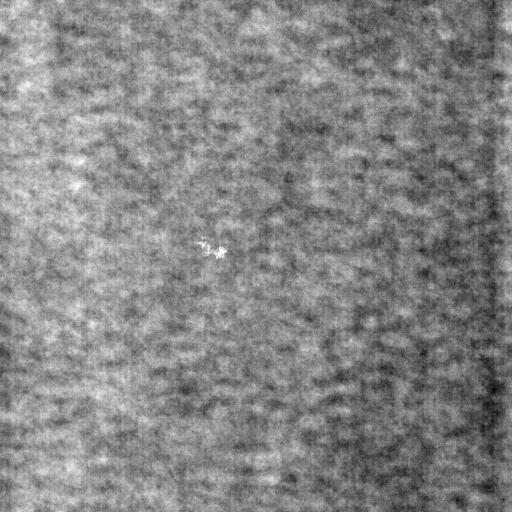stain: (190, 234, 232, 266)
